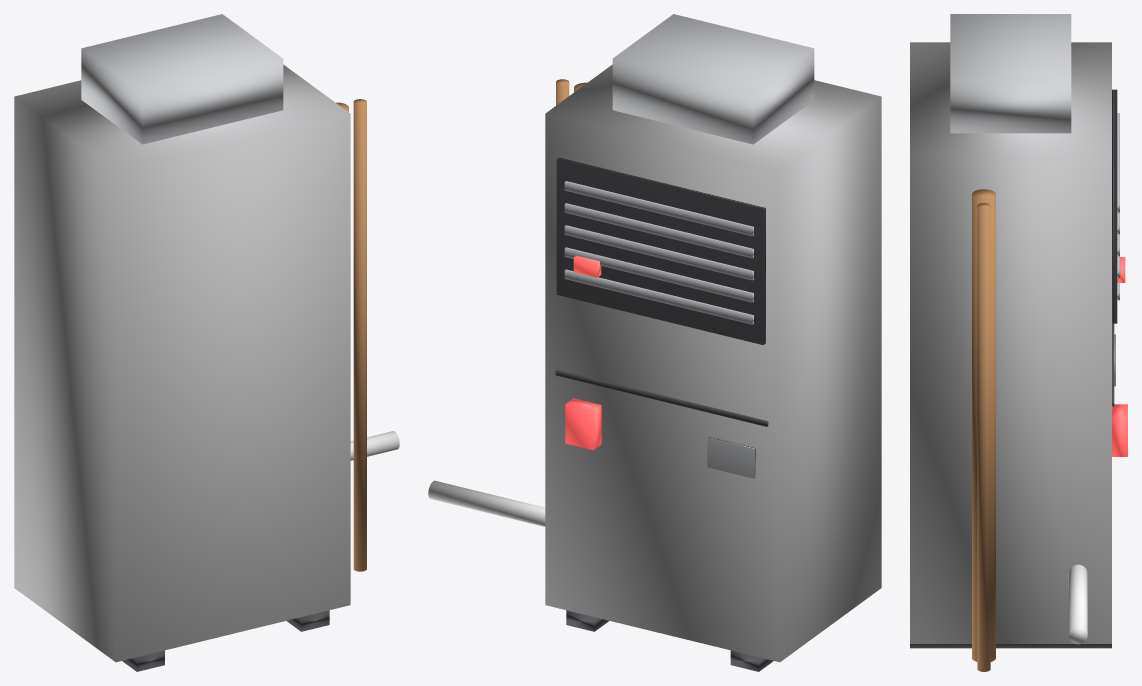
Rendered from hvac.glb.
3 views of the same model, side by side, from view 1: azimuth 30°, elevation 25°; view 2: azimuth 150°, elevation 25°; view 3: azimuth 270°, elevation 25° (orthographic).
Visible parts, largest first — view 1: cab, collar, liquid, drain; view 2: cab, grille, collar, drain, fin_2, fin_4, fin_3, fin_0, fin_1, disconnect, badge, seam; view 3: cab, collar, liquid, suction, drain, grille, rail_R, disconnect.
Boxes of the visible parts, x1=… form: cab: x1=14, y1=64, x2=350, y2=662; collar: x1=81, y1=14, x2=283, y2=144; liquid: x1=353, y1=99, x2=366, y2=571; drain: x1=350, y1=431, x2=399, y2=460; cab: x1=545, y1=64, x2=881, y2=662; grille: x1=556, y1=157, x2=765, y2=344; collar: x1=612, y1=14, x2=814, y2=144; drain: x1=428, y1=480, x2=545, y2=526; fin_2: x1=564, y1=225, x2=753, y2=280; fin_4: x1=564, y1=181, x2=753, y2=236; fin_3: x1=564, y1=203, x2=753, y2=258; fin_0: x1=564, y1=269, x2=753, y2=324; fin_1: x1=564, y1=247, x2=753, y2=302; disconnect: x1=565, y1=398, x2=601, y2=450; badge: x1=707, y1=437, x2=755, y2=478; seam: x1=555, y1=369, x2=768, y2=426; cab: x1=910, y1=42, x2=1111, y2=643; collar: x1=950, y1=14, x2=1071, y2=133; liquid: x1=977, y1=203, x2=990, y2=671; suction: x1=972, y1=189, x2=995, y2=661; drain: x1=1068, y1=564, x2=1087, y2=644; grille: x1=1112, y1=89, x2=1117, y2=323; rail_R: x1=910, y1=644, x2=1111, y2=648; disconnect: x1=1112, y1=404, x2=1127, y2=456.
Size of what is drawn, in the model's own units: 1.55 by 2.27 by 0.81.
